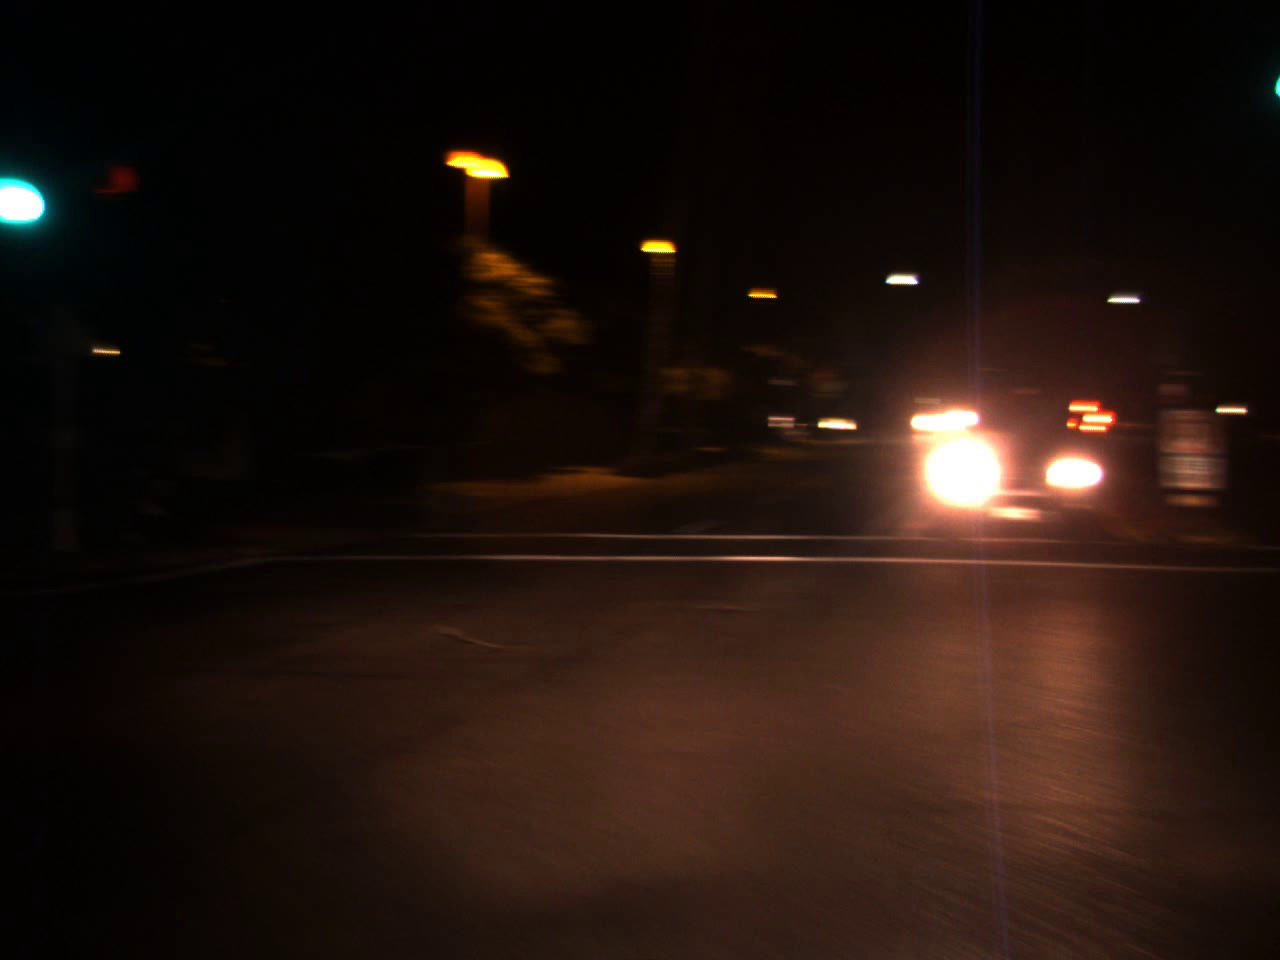go: (0, 126, 48, 240)
